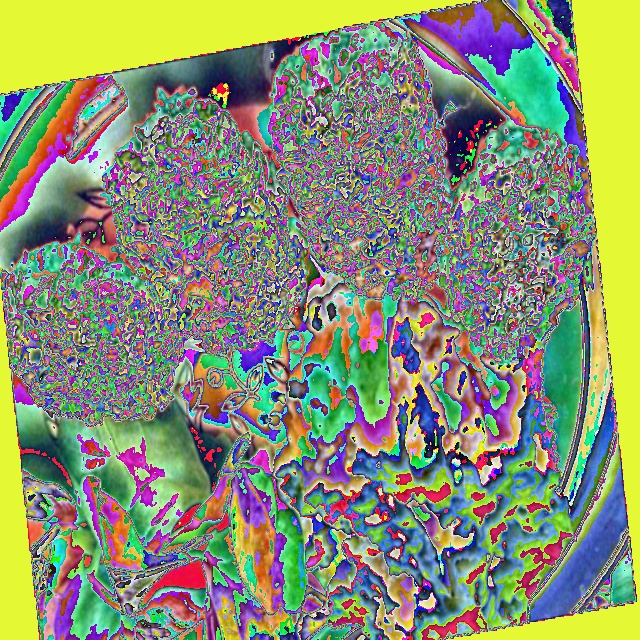background: (3, 22, 596, 639)
